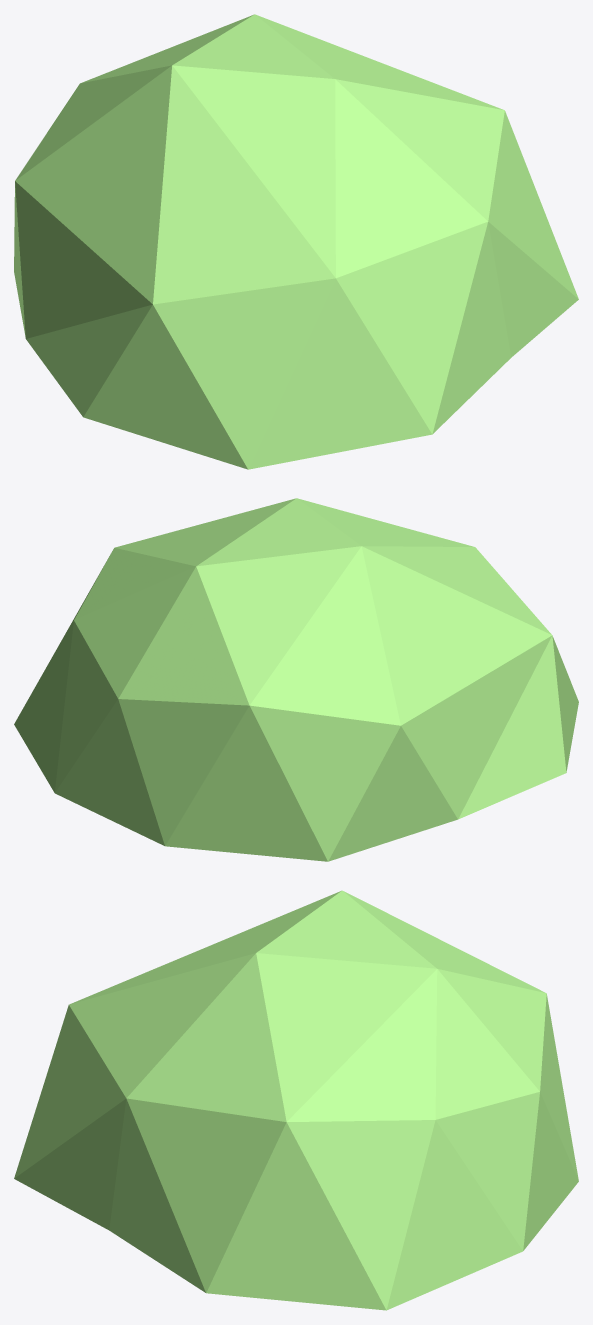
Rendered from Bush_h_m_05.fbx.
The picture shows the model from 3 angles, top to bottom: view 1: azimuth 30°, elevation 25°; view 2: azimuth 150°, elevation 25°; view 3: azimuth 270°, elevation 25°; orthographic projection. The views are drawn at different scales.
Parts seen in each view (by area): view 1: Bush_h_m_05; view 2: Bush_h_m_05; view 3: Bush_h_m_05.
Part boxes in pixels (x1,y1,x2,y2): Bush_h_m_05: (14,14,578,469); Bush_h_m_05: (14,498,578,861); Bush_h_m_05: (14,890,578,1310).
Size of the model in its own units: 165 by 81.58 by 165.
